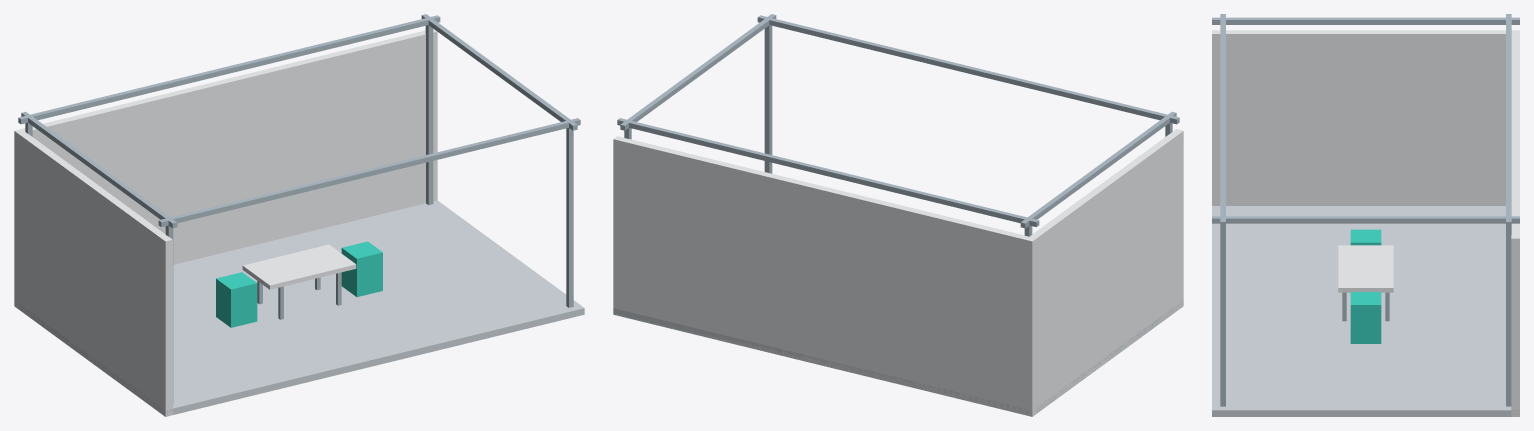
3 views of the same model, side by side, from view 1: azimuth 30°, elevation 25°; view 2: azimuth 150°, elevation 25°; view 3: azimuth 270°, elevation 25° (orthographic).
Parts seen in each view (by area): view 1: Exhibition Booth Concept; view 2: Exhibition Booth Concept; view 3: Exhibition Booth Concept.
Part boxes in pixels (box(x1,y1,x2,y2)): Exhibition Booth Concept: box(14, 14, 584, 416); Exhibition Booth Concept: box(613, 14, 1183, 416); Exhibition Booth Concept: box(1212, 14, 1519, 416).
Bounding box in the file's own units: 8 × 3.49 × 5.
